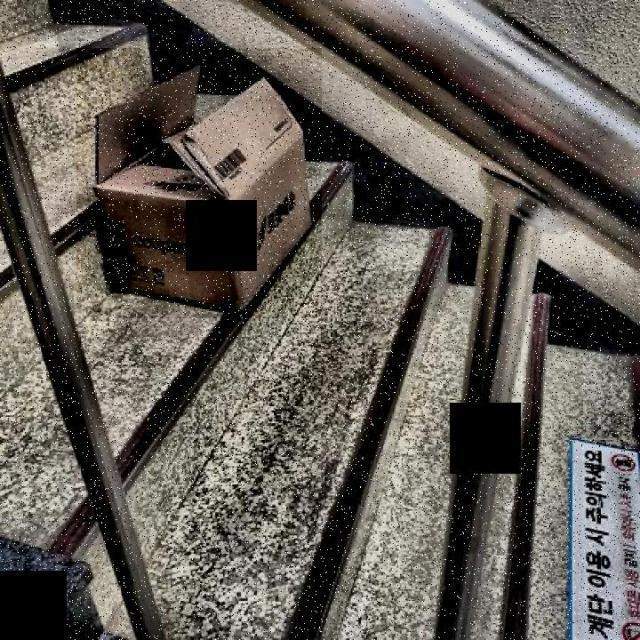box: (76, 48, 322, 318)
